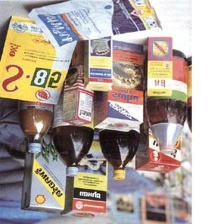carton: (91, 37, 147, 135), (18, 120, 71, 216), (131, 86, 183, 175), (58, 136, 108, 221), (60, 61, 95, 127), (144, 35, 175, 98), (82, 31, 114, 92)
insecticide: (21, 0, 171, 53), (0, 12, 78, 109), (144, 47, 189, 157), (51, 77, 99, 178), (97, 90, 144, 182), (15, 81, 51, 158)
